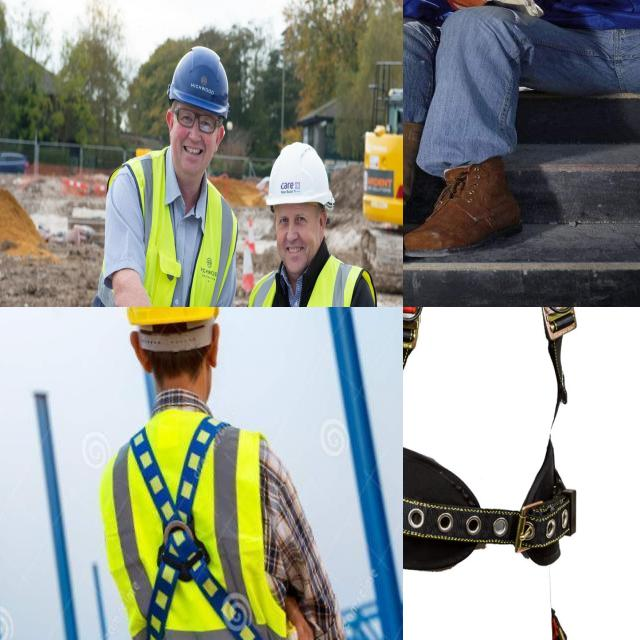Harness: (403, 307, 590, 640), (130, 416, 264, 640)
face_nomask: (175, 104, 218, 175), (277, 207, 318, 275)
glasses: (174, 102, 218, 136)
head_helmet: (266, 141, 334, 212), (169, 45, 229, 117)
person: (467, 0, 640, 254), (74, 46, 231, 307), (246, 139, 382, 307), (403, 0, 473, 250)
shoes: (403, 160, 522, 259)
vest: (83, 148, 233, 307)
